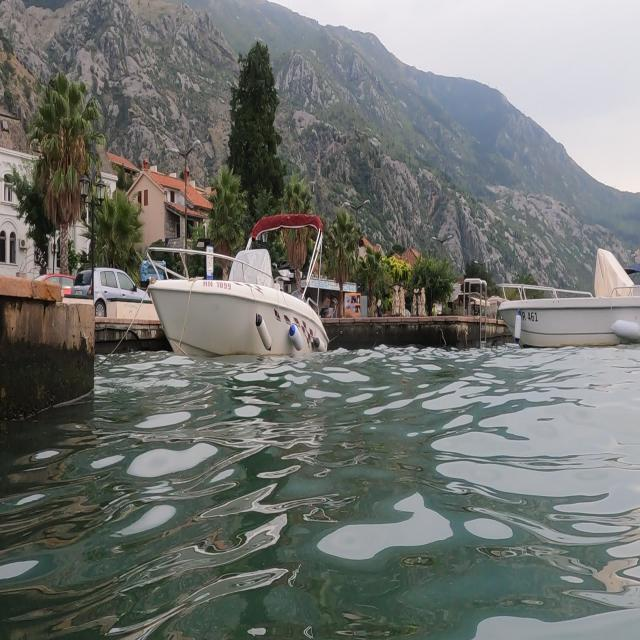boat: (144, 209, 332, 362), (492, 245, 640, 359)
